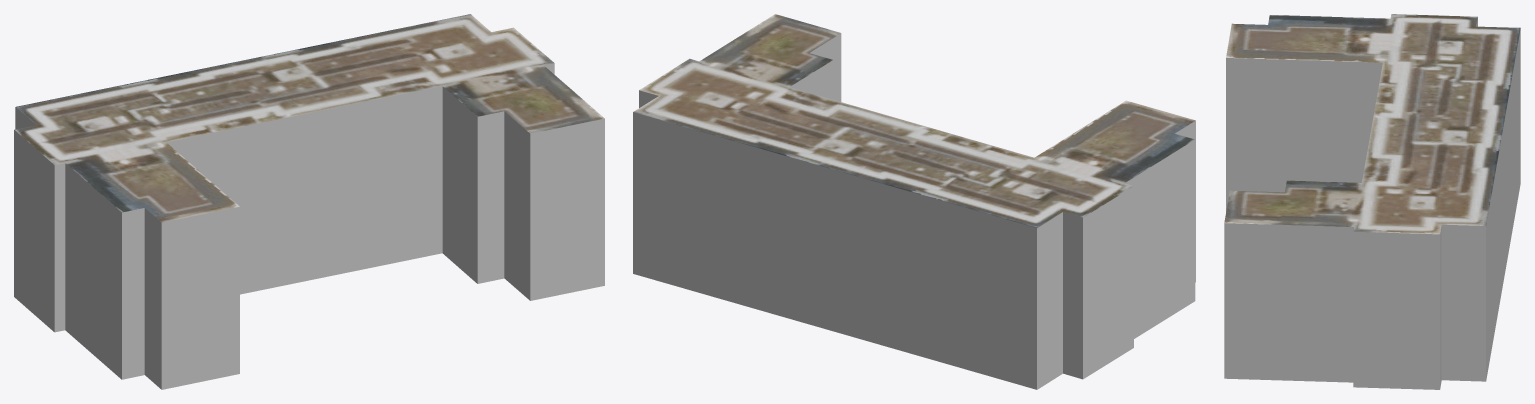
Rendered from DEBW_001000hBWQu.gltf.
3 views of the same model, side by side, from view 1: azimuth 30°, elevation 25°; view 2: azimuth 150°, elevation 25°; view 3: azimuth 270°, elevation 25° (orthographic). The views are drawn at different scales.
Parts seen in each view (by area): view 1: Z_UP; view 2: Z_UP; view 3: Z_UP.
Boxes of the visible parts, bbox=[...] form: Z_UP: bbox=[14, 14, 604, 389]; Z_UP: bbox=[633, 14, 1195, 389]; Z_UP: bbox=[1224, 14, 1520, 389].
Bounding box in the file's own units: 59.56 × 19.61 × 33.86.
Materials: 2 (1 with a texture image).
